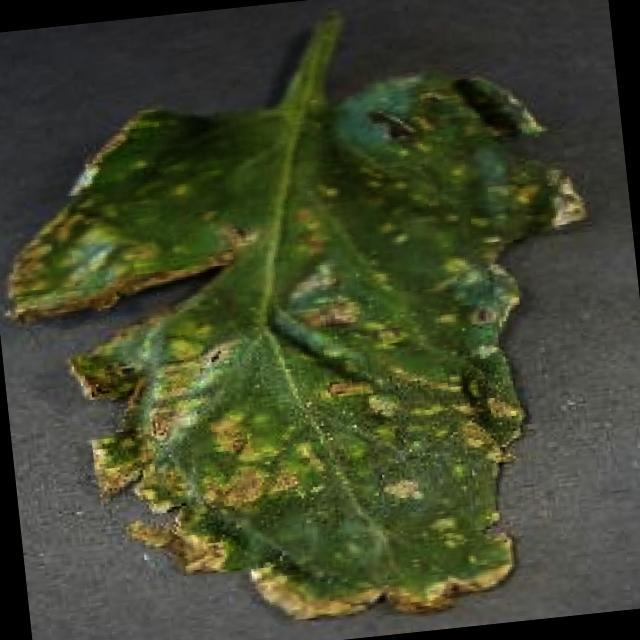Tomato bacterial spot leaf: (0, 32, 639, 640)
